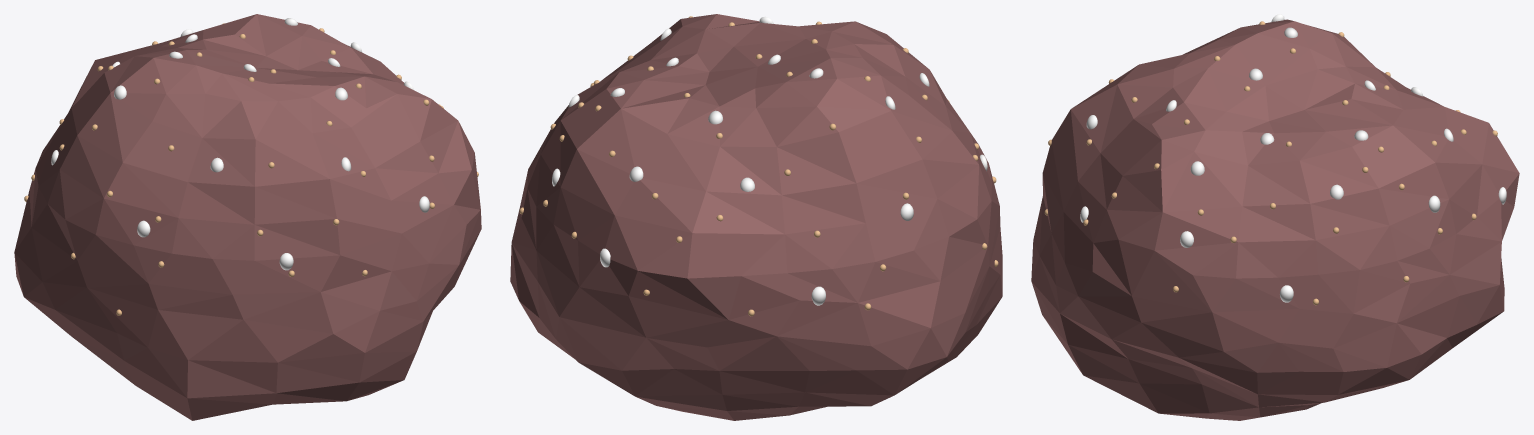
Rendered from Meatball.gltf.
3 renders of one model, left to right at view 1: azimuth 30°, elevation 25°; view 2: azimuth 150°, elevation 25°; view 3: azimuth 270°, elevation 25°, orthographic. The views are drawn at different scales.
Visible parts, largest first — view 1: node-0; view 2: node-0; view 3: node-0.
Boxes of the visible parts, box(x1,y1,x2,y2) form: node-0: box(14, 14, 481, 420); node-0: box(510, 14, 1002, 420); node-0: box(1031, 14, 1519, 420).
Size of the model in its own units: 478722 by 376512 by 508878.
